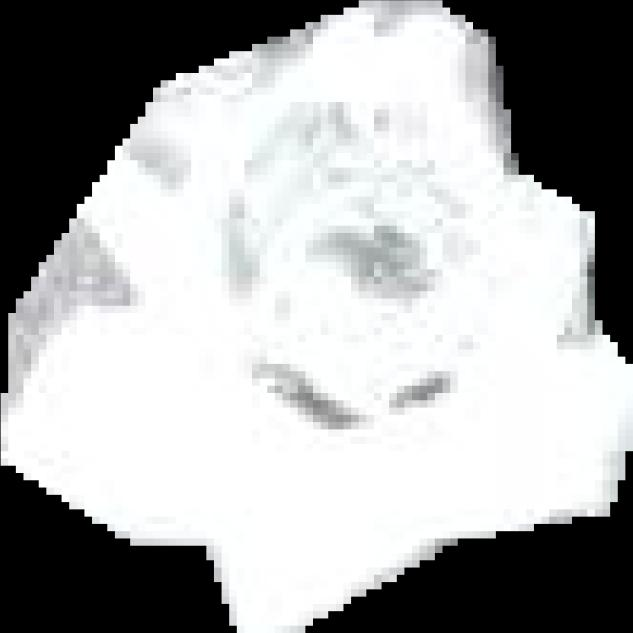tumor_less_chance: (1, 0, 633, 633)
